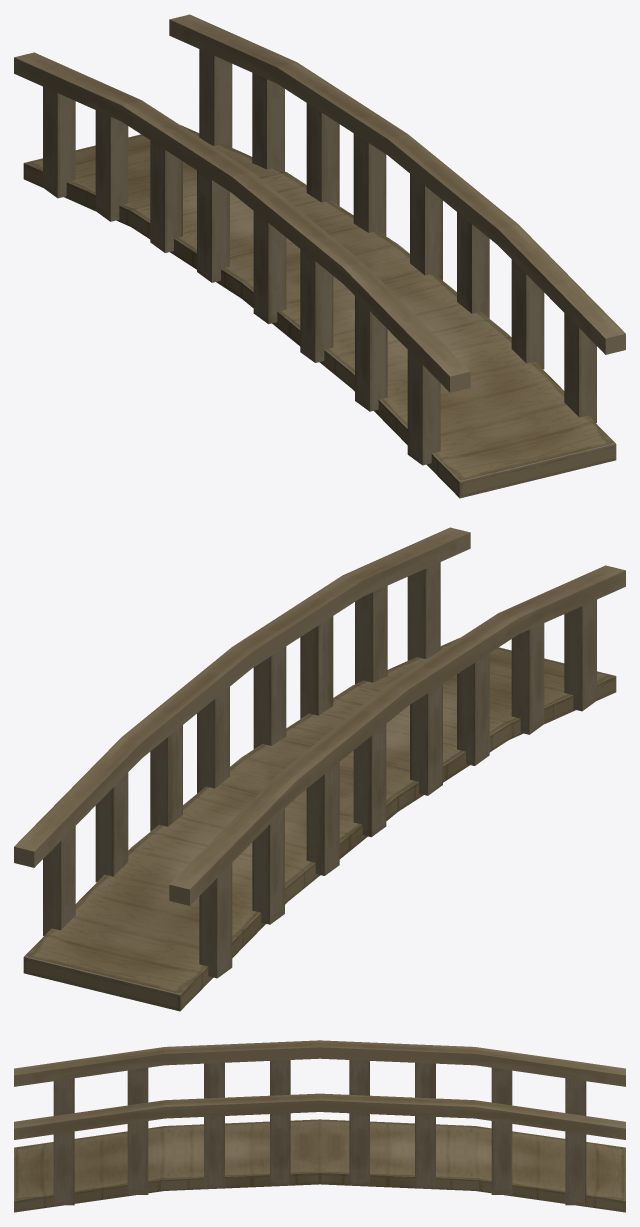
File: Bridge.obj
3 views of the same model, one above another, from view 1: azimuth 30°, elevation 25°; view 2: azimuth 150°, elevation 25°; view 3: azimuth 270°, elevation 25° (orthographic). The views are drawn at different scales.
Parts seen in each view (by area): view 1: Bridge_Cube.002; view 2: Bridge_Cube.002; view 3: Bridge_Cube.002.
Boxes of the visible parts, x1=… form: Bridge_Cube.002: x1=14, y1=14, x2=625, y2=498; Bridge_Cube.002: x1=14, y1=527, x2=625, y2=1011; Bridge_Cube.002: x1=14, y1=1040, x2=625, y2=1212.
Bounding box in the file's own units: 1.37 × 1.23 × 5.9.
